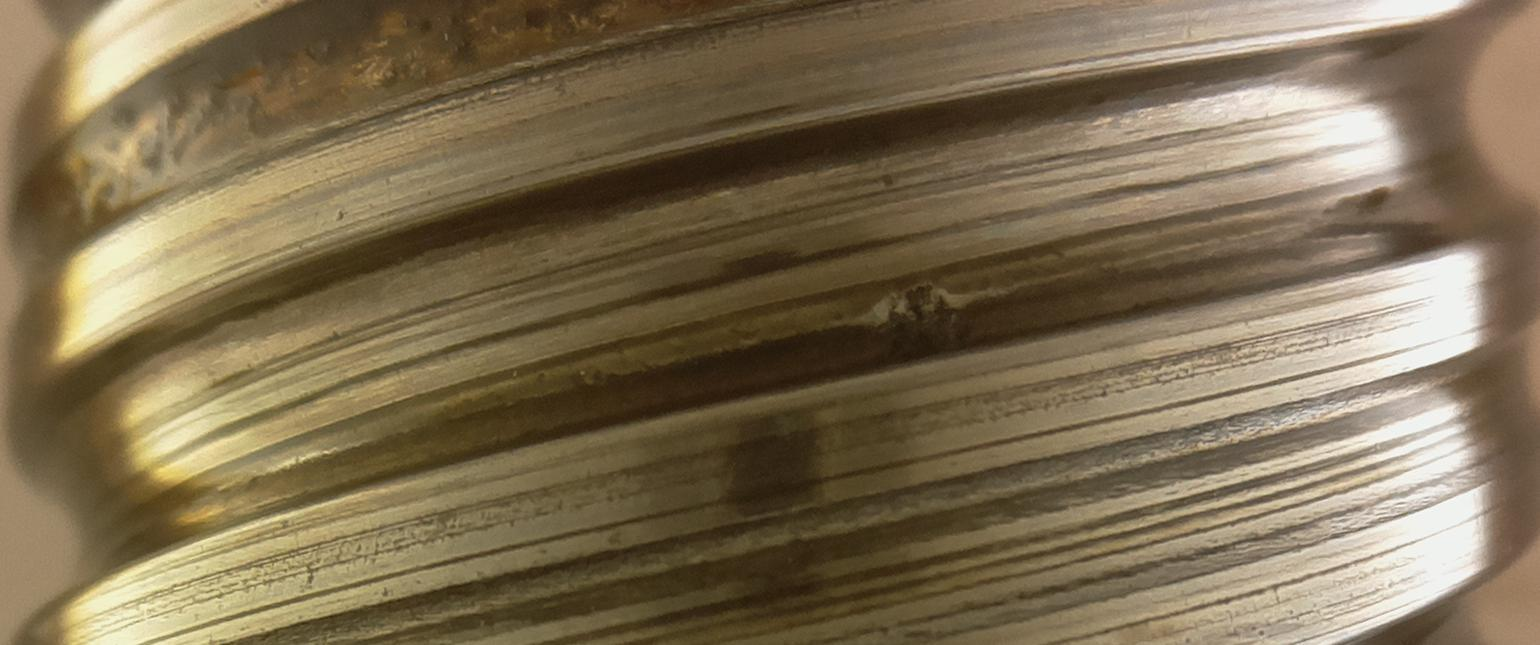pitting: (862, 285, 970, 368)
